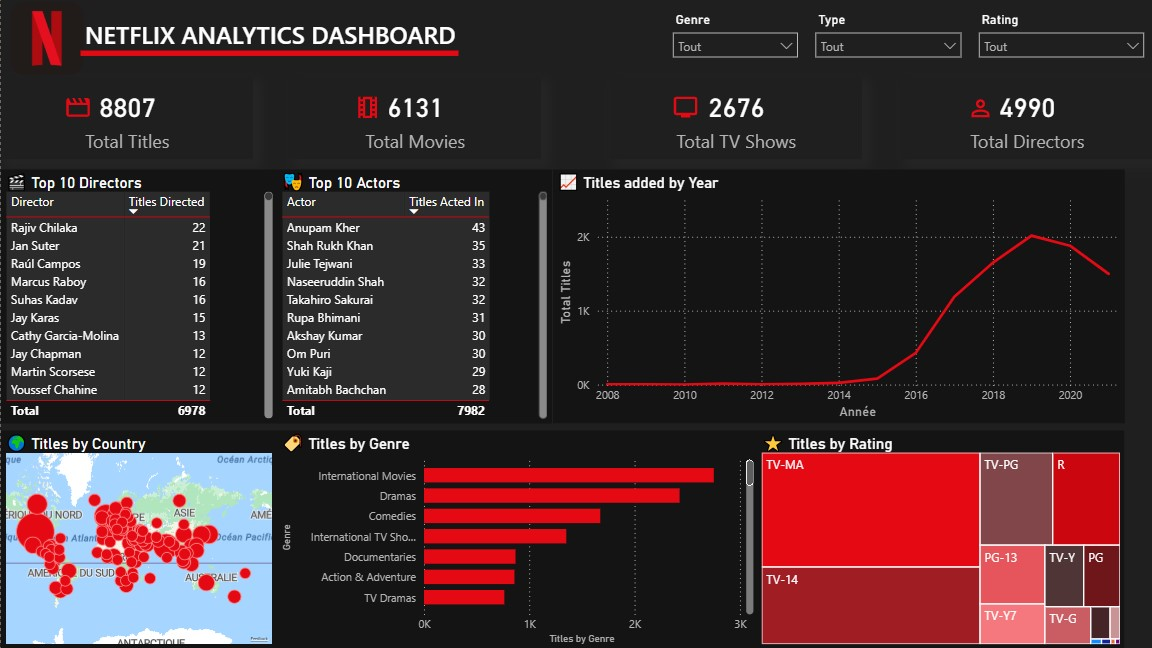

The dashboard page shown, as its layout file describes it:
{"tool":"powerbi","page":{"name":"Page 1","canvas":[1280,720],"ordinal":0},"visuals":[{"type":"card","fields":{"Values":["F_Netflix.Total Titles"]},"box":[0,85,280,91.7],"z":0},{"type":"card","fields":{"Values":["F_Netflix.Total Movies"]},"box":[320,85,280,91.7],"z":1000},{"type":"card","fields":{"Values":["F_Netflix.Total TV Shows"]},"box":[676.7,85,280,91.7],"z":2000},{"type":"card","fields":{"Values":["F_Netflix.Total Directors"]},"box":[1000,85,280,91.7],"z":3000},{"type":"tableEx","title":"🎬 Top 10 Directors","fields":{"Values":["BridgeDirector.Director","BridgeDirector.Titles Directed"]},"box":[0,188.3,306.7,281.7],"z":4000},{"type":"tableEx","title":"🎭 Top 10 Actors","fields":{"Values":["BridgeActor.Actor","BridgeActor.Titles Acted In"]},"box":[306.7,188.3,305,281.7],"z":5000},{"type":"lineChart","title":"📈 Titles added by Year","fields":{"Category":["DimDate.Date.Variation.Hiérarchie de dates.Année","DimDate.Date.Variation.Hiérarchie de dates.Trimestre","DimDate.Date.Variation.Hiérarchie de dates.Mois","DimDate.Date.Variation.Hiérarchie de dates.Jour"],"Y":["F_Netflix.Total Titles"]},"box":[613.3,188.3,635,281.7],"z":6000},{"type":"azureMap","title":"🌍 Titles by Country ","fields":{"Category":["BridgeCountry.Country"],"Size":["BridgeCountry.Titles by Country"]},"box":[0,478,306,242],"z":7000},{"type":"clusteredBarChart","title":"🏷️ Titles by Genre","fields":{"Category":["BridgeGenre.Genre"],"Y":["BridgeGenre.Titles by Genre"]},"box":[306,478,534,242],"z":8000},{"type":"treemap","title":"⭐ Titles by Rating","fields":{"Group":["DimRating.Rating"],"Values":["F_Netflix.Total Titles"]},"box":[840,478,408,242],"z":9000},{"type":"slicer","fields":{"Values":["DimRating.Rating"]},"box":[1076.7,8.3,203.3,63.3],"z":10000},{"type":"slicer","fields":{"Values":["DimType.Type"]},"box":[895,8.3,181.7,63.3],"z":11000},{"type":"slicer","fields":{"Values":["BridgeGenre.Genre"]},"box":[736.7,8.3,158.3,63.3],"z":12000},{"type":"image","box":[0,0,101.7,85],"z":13000},{"type":"textbox","box":[88.3,15,525,58.3],"z":14000},{"type":"shape","box":[88.3,45,420,28.3],"z":15000},{"type":"image","box":[70,98.8,31.2,42.5],"z":16000},{"type":"image","box":[391.2,98.8,31.2,42.5],"z":17000},{"type":"image","box":[745,98.8,31.2,41.2],"z":18000},{"type":"image","box":[1073.8,100,30,41.2],"z":19000}]}

Visuals, with their boxes in screenshot pixels (x1, y1, x2, y2), scaled from the page's 1280x720 canvas onto the 1152x648 screenshot:
card - F_Netflix.Total Titles: {"x1": 0, "y1": 76, "x2": 252, "y2": 159}
card - F_Netflix.Total Movies: {"x1": 288, "y1": 76, "x2": 540, "y2": 159}
card - F_Netflix.Total TV Shows: {"x1": 609, "y1": 76, "x2": 861, "y2": 159}
card - F_Netflix.Total Directors: {"x1": 900, "y1": 76, "x2": 1151, "y2": 159}
"🎬 Top 10 Directors" tableEx: {"x1": 0, "y1": 169, "x2": 276, "y2": 423}
"🎭 Top 10 Actors" tableEx: {"x1": 276, "y1": 169, "x2": 551, "y2": 423}
"📈 Titles added by Year" lineChart: {"x1": 552, "y1": 169, "x2": 1123, "y2": 423}
"🌍 Titles by Country " azureMap: {"x1": 0, "y1": 430, "x2": 275, "y2": 647}
"🏷️ Titles by Genre" clusteredBarChart: {"x1": 275, "y1": 430, "x2": 756, "y2": 647}
"⭐ Titles by Rating" treemap: {"x1": 756, "y1": 430, "x2": 1123, "y2": 647}
slicer - DimRating.Rating: {"x1": 969, "y1": 7, "x2": 1151, "y2": 64}
slicer - DimType.Type: {"x1": 806, "y1": 7, "x2": 969, "y2": 64}
slicer - BridgeGenre.Genre: {"x1": 663, "y1": 7, "x2": 806, "y2": 64}
image: {"x1": 0, "y1": 0, "x2": 92, "y2": 76}
textbox: {"x1": 79, "y1": 14, "x2": 552, "y2": 66}
shape: {"x1": 79, "y1": 40, "x2": 457, "y2": 66}
image: {"x1": 63, "y1": 89, "x2": 91, "y2": 127}
image: {"x1": 352, "y1": 89, "x2": 380, "y2": 127}
image: {"x1": 670, "y1": 89, "x2": 699, "y2": 126}
image: {"x1": 966, "y1": 90, "x2": 993, "y2": 127}
